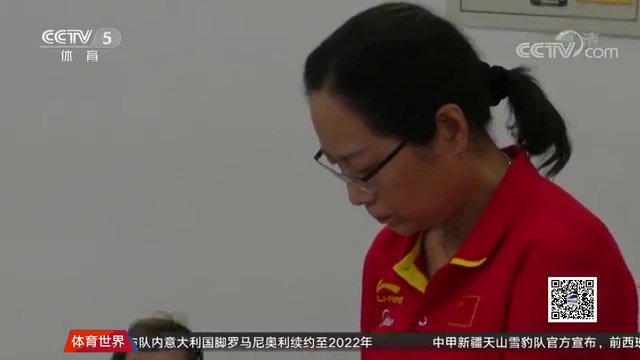face: (313, 91, 456, 236)
